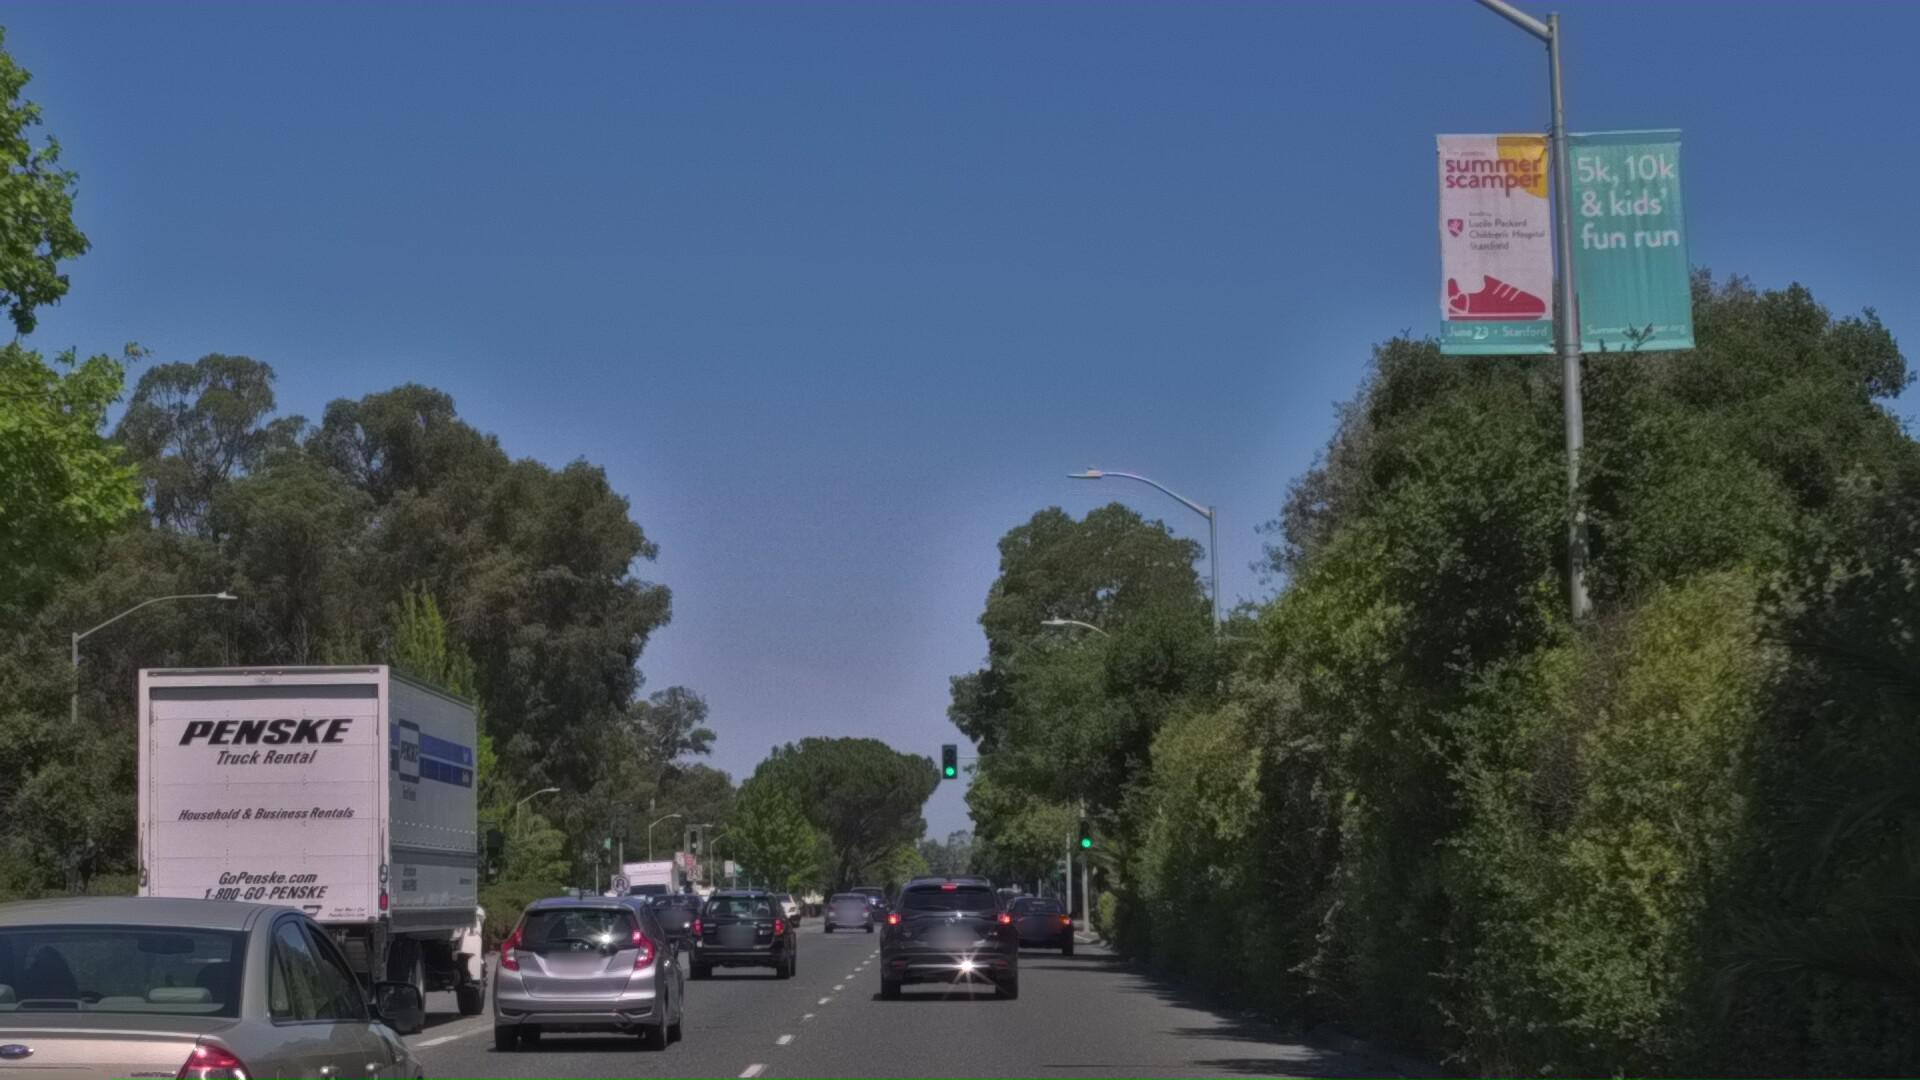car: (0, 916, 472, 1080), (483, 971, 705, 1080), (862, 953, 1030, 1080), (669, 967, 804, 1080)
truck: (124, 727, 531, 1080)
